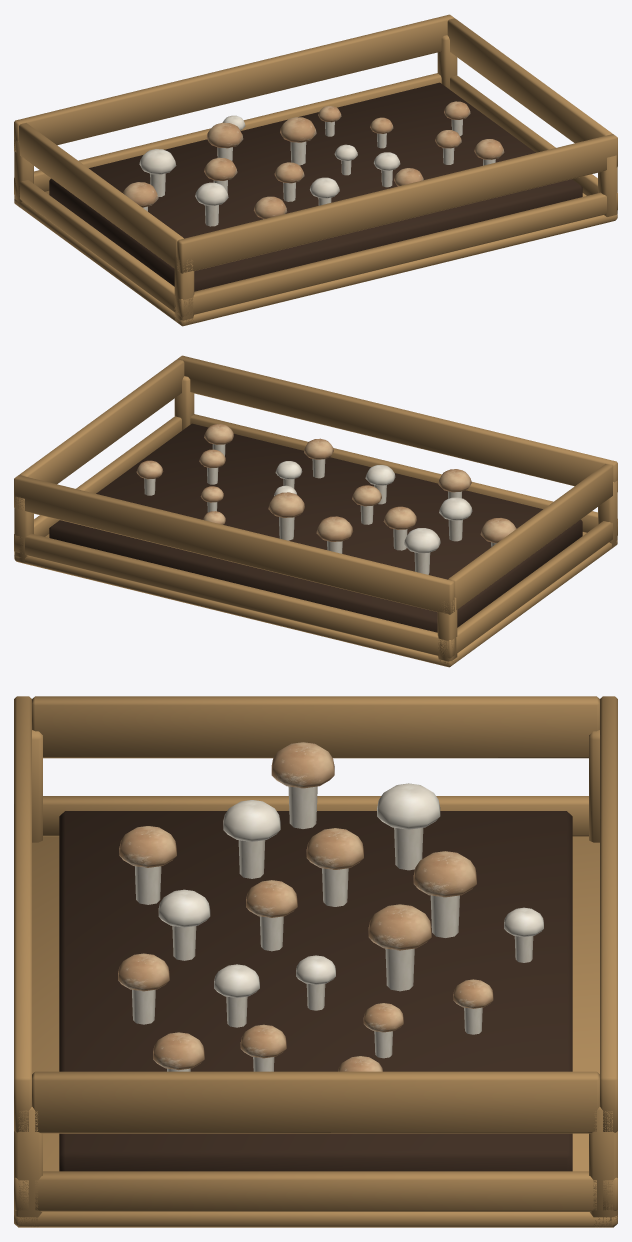
Rendered from harvest_tray_mushrooms.glb.
3 views of the same model, one above another, from view 1: azimuth 30°, elevation 25°; view 2: azimuth 150°, elevation 25°; view 3: azimuth 270°, elevation 25° (orthographic). The views are drawn at different scales.
Visible parts, largest first — view 1: harvest_tray_mushrooms; view 2: harvest_tray_mushrooms; view 3: harvest_tray_mushrooms.
Part boxes in pixels (left/top/right/bottom): harvest_tray_mushrooms: left=14, top=14, right=617, bottom=326; harvest_tray_mushrooms: left=14, top=355, right=617, bottom=667; harvest_tray_mushrooms: left=14, top=696, right=617, bottom=1227.
Bounding box in the file's own units: 0.6 × 0.1108 × 0.4.
Materials: 5 (3 with a texture image).
